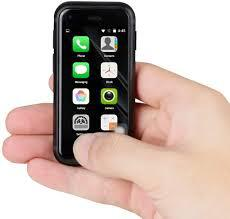Hand: (13, 63, 223, 219)
Smartphone: (53, 11, 132, 160)
